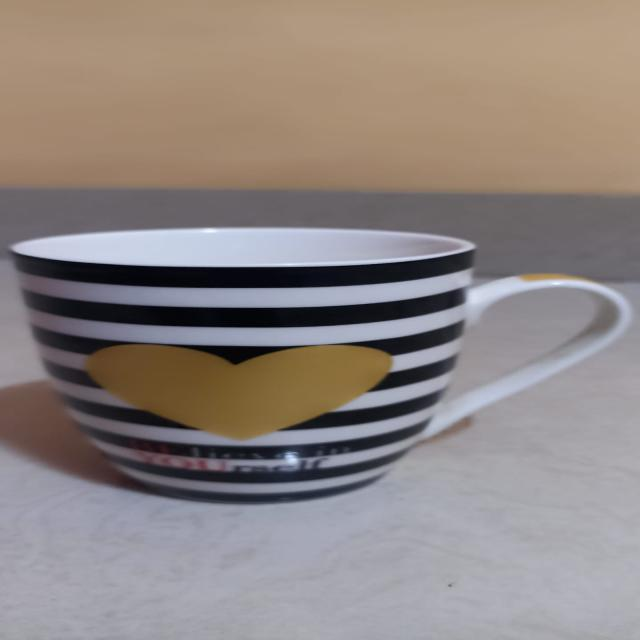cup: (0, 218, 640, 505)
